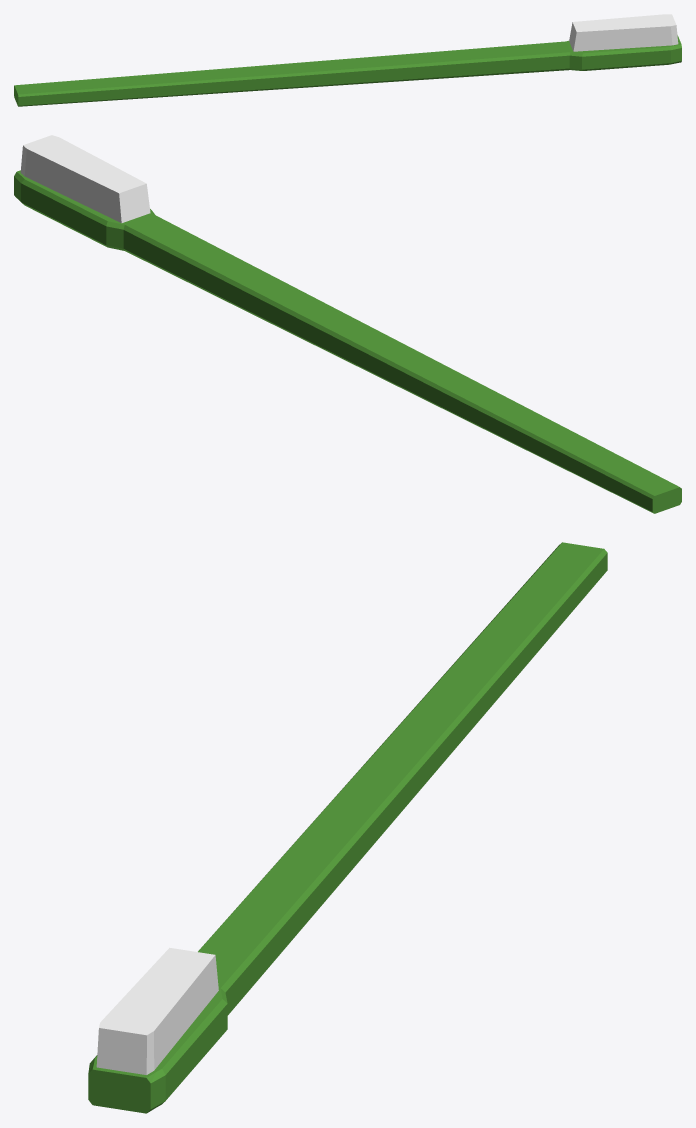
Rendered from TOOTHBRUSH.fbx.
3 renders of one model, top to bottom at view 1: azimuth 30°, elevation 25°; view 2: azimuth 150°, elevation 25°; view 3: azimuth 270°, elevation 25°, orthographic. The views are drawn at different scales.
Visible parts, largest first — view 1: TOOTHBRUSH; view 2: TOOTHBRUSH; view 3: TOOTHBRUSH.
Part boxes in pixels (x1=…): TOOTHBRUSH: x1=14, y1=14, x2=681, y2=106; TOOTHBRUSH: x1=14, y1=135, x2=681, y2=513; TOOTHBRUSH: x1=88, y1=542, x2=607, y2=1113.
Bounding box in the file's own units: 12.03 × 0.7649 × 4.87.
